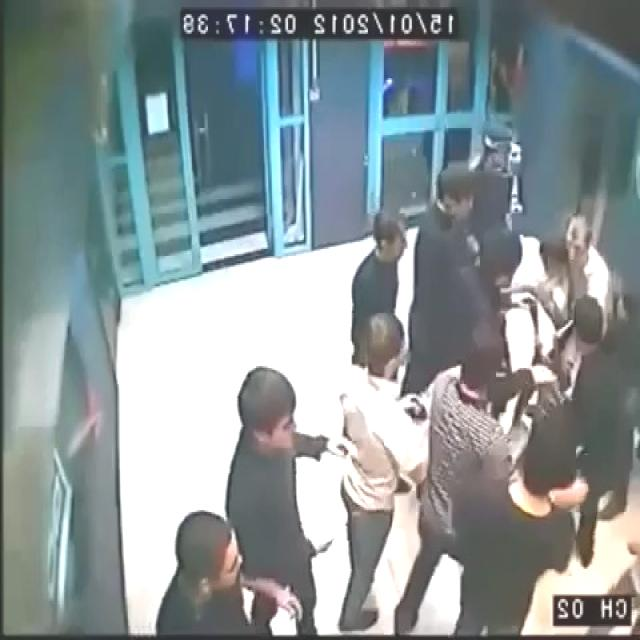fight: (435, 216, 640, 478)
